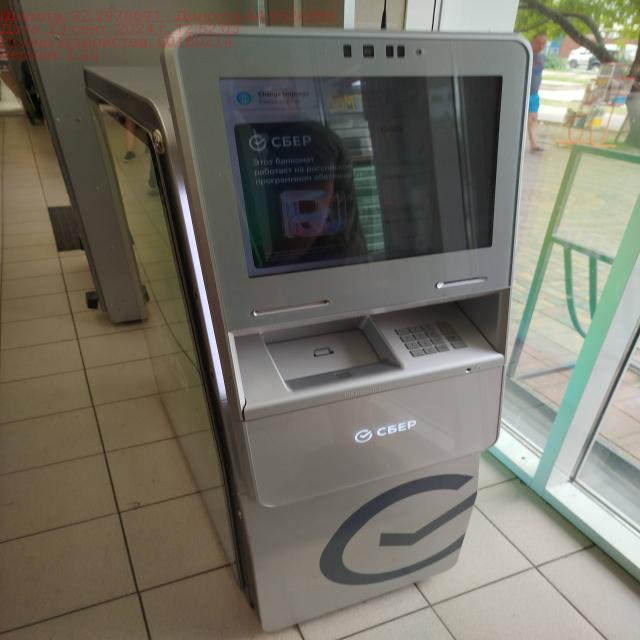bank: (85, 24, 531, 640)
